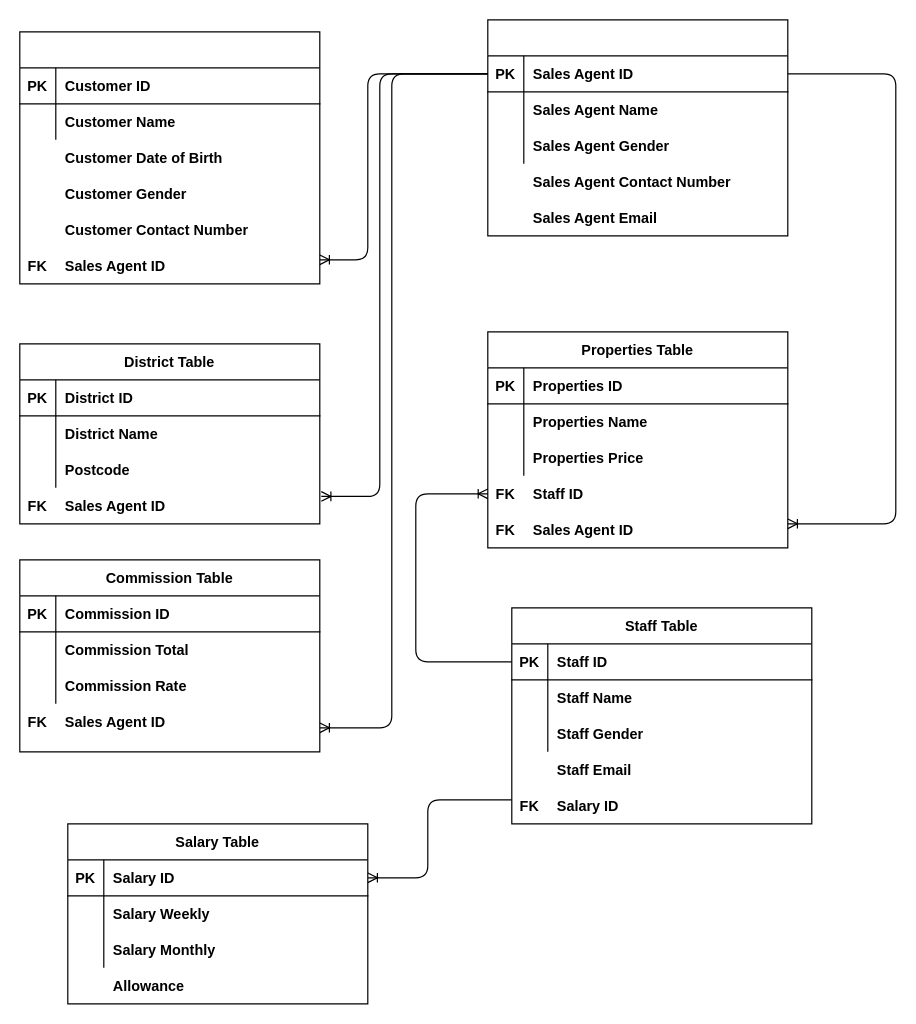
Some shapes in this 916 by 1024 pixel diagram are drawn without their labels. The shapes that lost their labels are listed below. From the top down, each one's box as (x1, y1, x2, y2) in pixels, then its label:
(487, 19, 788, 236): Sales Agent Table
(19, 31, 320, 284): Customers Table
